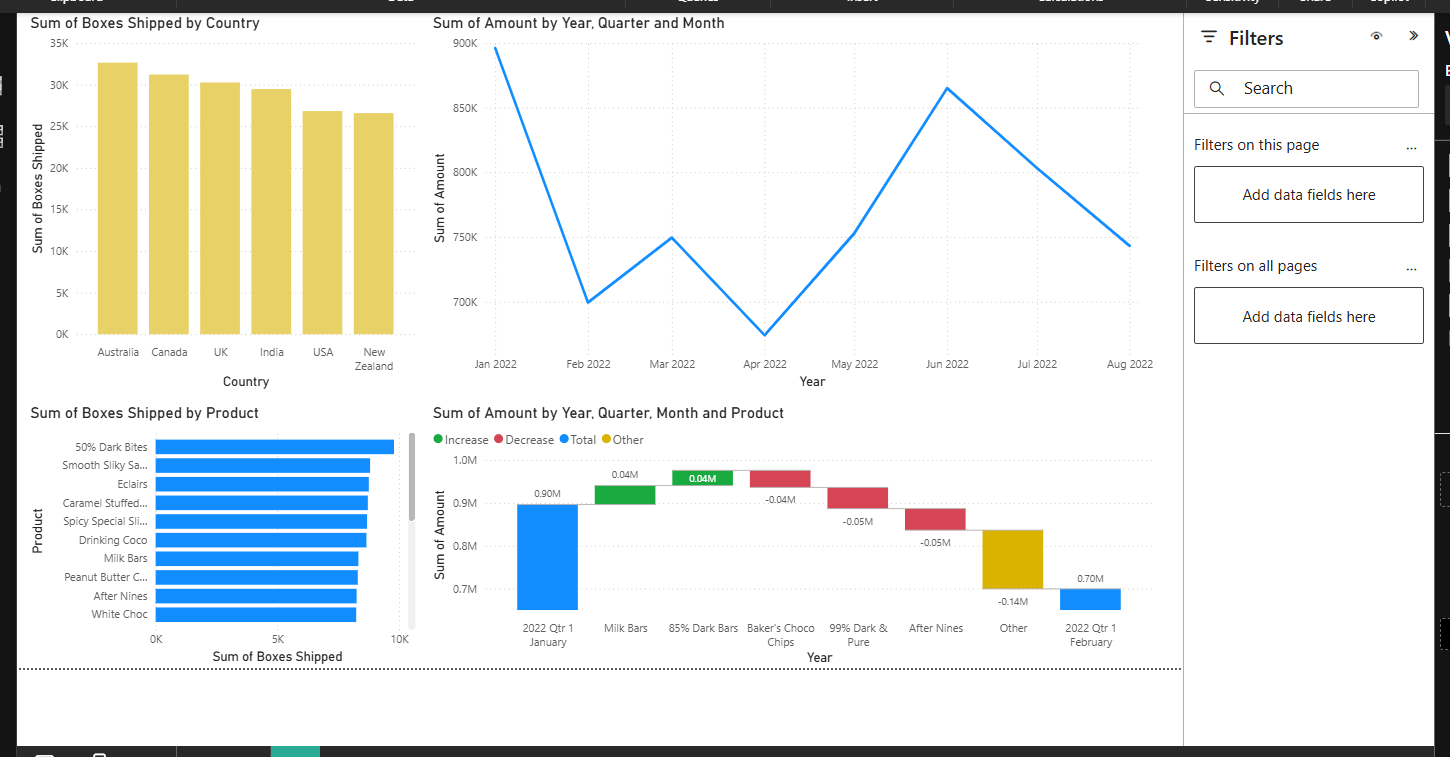

This screenshot's page, from the dashboard's own definition file:
{"tool":"powerbi","page":{"name":"Page 1","canvas":[1280,720],"ordinal":0},"visuals":[{"type":"columnChart","fields":{"Category":["data.Country"],"Y":["Sum(data.Boxes Shipped)"]},"box":[11.8,0,416.6,398.1],"z":0},{"type":"barChart","fields":{"Category":["data.Product"],"Y":["Sum(data.Boxes Shipped)"]},"box":[11.8,398.1,416.6,322.5],"z":1},{"type":"lineChart","fields":{"Y":["Sum(data.Amount)"],"Category":["data.Date.Variation.Date Hierarchy.Year","data.Date.Variation.Date Hierarchy.Quarter","data.Date.Variation.Date Hierarchy.Month"]},"box":[438.4,0,841.6,398.1],"z":2},{"type":"waterfallChart","fields":{"Category":["data.Date.Variation.Date Hierarchy.Year","data.Date.Variation.Date Hierarchy.Quarter","data.Date.Variation.Date Hierarchy.Month"],"Breakdown":["data.Product"],"Y":["Sum(data.Amount)"]},"box":[438,398,842,322],"z":3}]}

Visuals, with their boxes on the page's 1280x720 design canvas (x1, y1, x2, y2). These are canvas units, not pixel positions in the 1450x757 screenshot, which may show the page scaled, cropped or inside an application window:
columnChart - data.Country x Sum(data.Boxes Shipped): x1=12 y1=0 x2=428 y2=398
barChart - data.Product x Sum(data.Boxes Shipped): x1=12 y1=398 x2=428 y2=721
lineChart - Sum(data.Amount) x data.Date.Variation.Date Hierarchy.Year: x1=438 y1=0 x2=1280 y2=398
waterfallChart - data.Date.Variation.Date Hierarchy.Year x data.Date.Variation.Date Hierarchy.Quarter: x1=438 y1=398 x2=1280 y2=720
